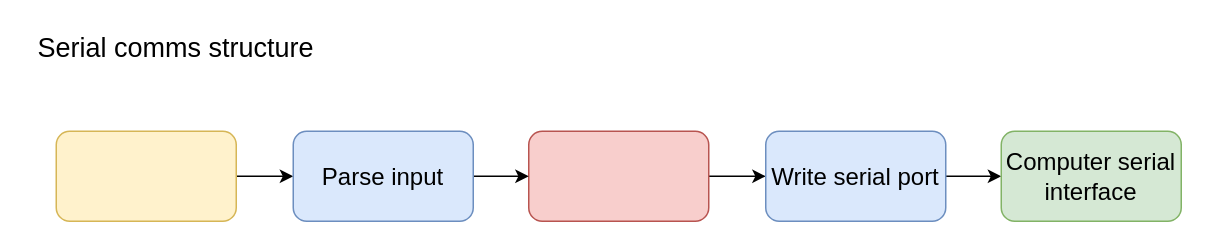
The diagram is 1208 pixels wide and 248 high, and some of its shapes have lost their labels. The box of each missing label's shape, as (x1, y1, x2, y2) in pixels:
32 byte array: (527, 130, 709, 221)
Control message: (55, 130, 236, 221)
